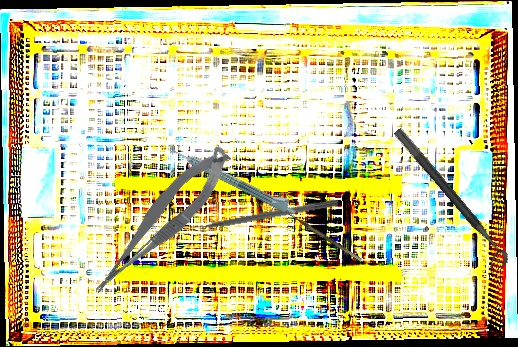Fixation Ring: (381, 126, 513, 276)
Handpiece: (168, 139, 301, 219)
Hook Surgical: (270, 202, 363, 267)
Micro Scissor: (75, 141, 245, 300)
Pusher: (182, 197, 339, 234)
